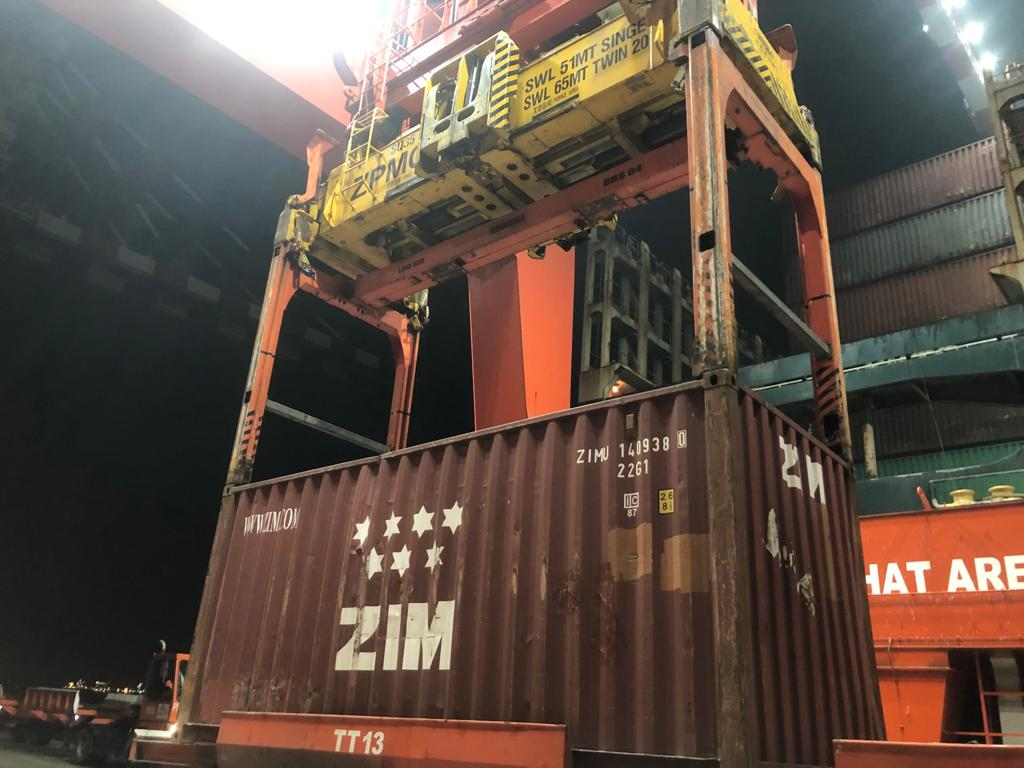dented: (215, 662, 550, 725), (511, 565, 644, 655), (490, 517, 557, 557), (328, 546, 385, 569)
